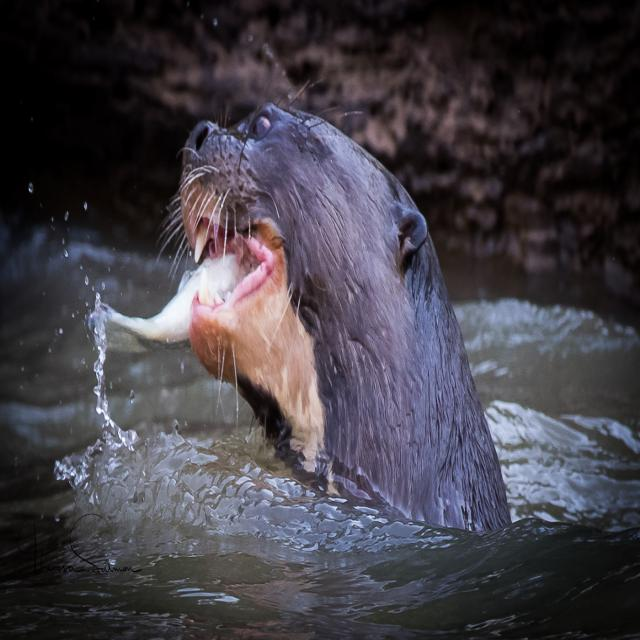otter: (183, 106, 507, 528)
